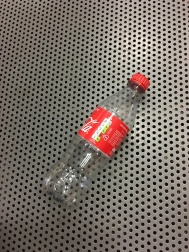bottle_red: (34, 64, 157, 215)
